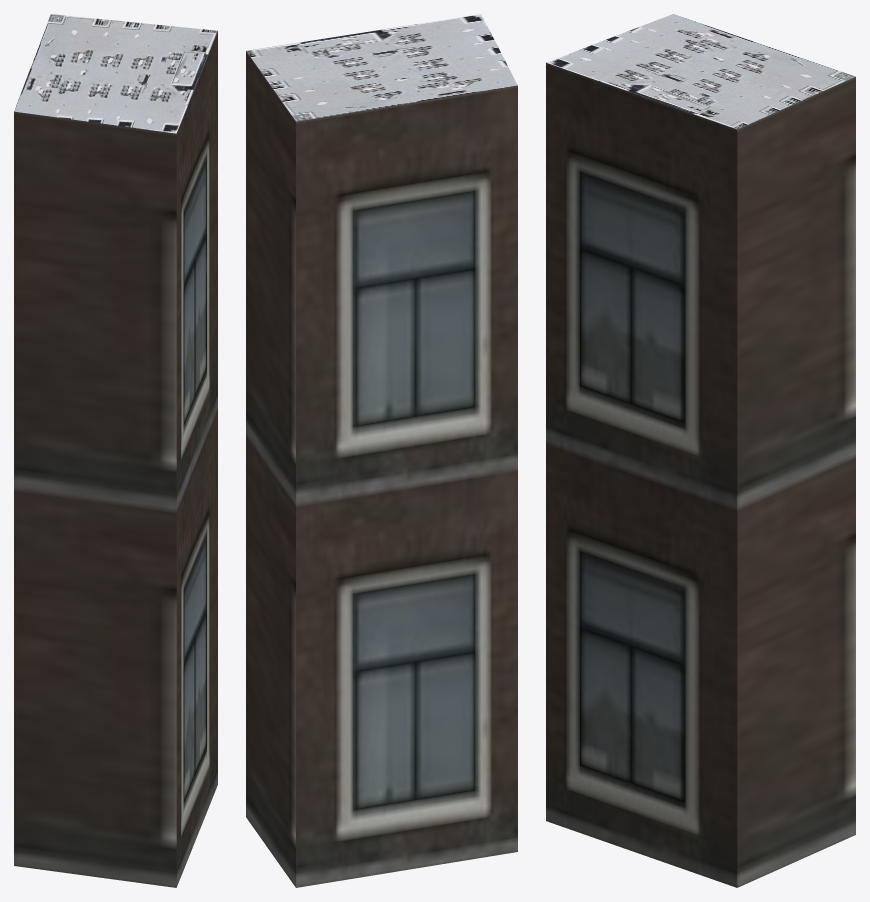
File: ResTex__4174.fbx
The picture shows the model from 3 angles, left to right: view 1: azimuth 30°, elevation 25°; view 2: azimuth 150°, elevation 25°; view 3: azimuth 270°, elevation 25°; orthographic projection.
Visible parts, largest first — view 1: CityEngineMaterial_16_m, CityEngineMaterial_15_m; view 2: CityEngineMaterial_16_m, CityEngineMaterial_15_m; view 3: CityEngineMaterial_16_m, CityEngineMaterial_15_m.
Boxes of the visible parts, box(x1,y1,x2,y2) form: CityEngineMaterial_16_m: box(14, 31, 217, 887); CityEngineMaterial_15_m: box(14, 14, 217, 133); CityEngineMaterial_16_m: box(246, 51, 517, 887); CityEngineMaterial_15_m: box(246, 14, 517, 121); CityEngineMaterial_16_m: box(546, 62, 855, 887); CityEngineMaterial_15_m: box(546, 14, 855, 129).
Bounding box in the file's own units: 1.96 × 6 × 2.22.
Materials: 2 (2 with a texture image).
